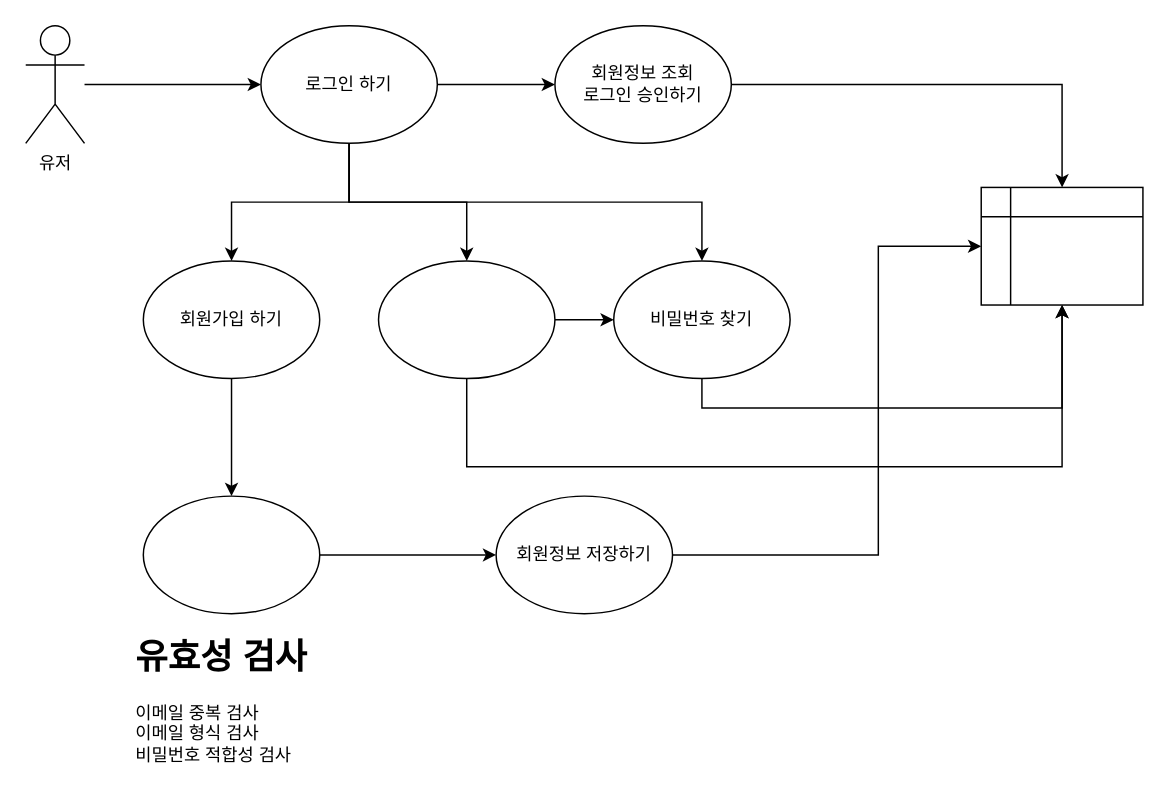
This 1169x801 diagram has some shape labels left out. The box of each missing label's shape, as (x1, y1, x2, y2) in pixels:
아이디 찾기: (377, 259, 555, 379)
유효성 겅사하기: (142, 495, 320, 614)
회원정보 Table: (980, 186, 1143, 305)
